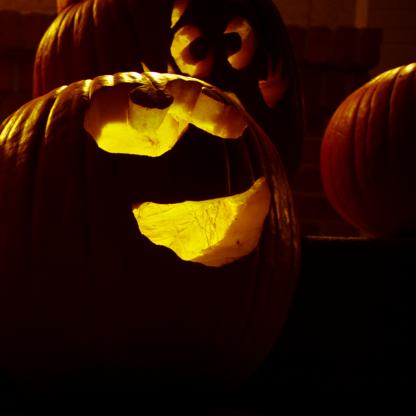Pumpkin: (0, 70, 303, 359), (30, 0, 300, 134), (319, 58, 416, 235)
